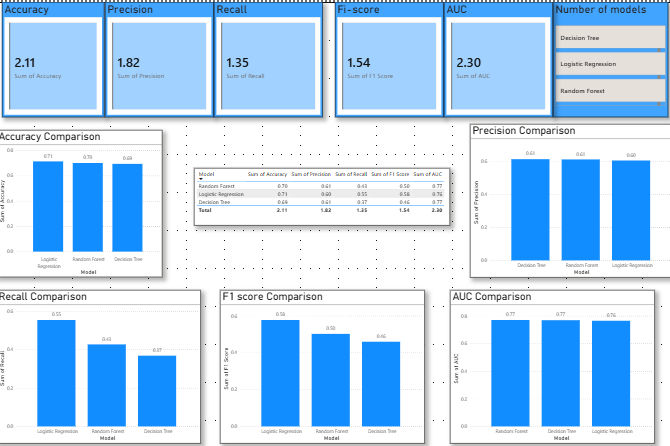

Layout of this report page (visuals, bound fields, positions):
{"tool":"powerbi","page":{"name":"Machine learning analytics","canvas":[1700,1500],"ordinal":3},"visuals":[{"type":"cardVisual","title":"Accuracy","fields":{"Data":["Sum(Model_Comparison.Accuracy)"]},"box":[16,0,256,288],"z":0},{"type":"cardVisual","title":"Number of models ","fields":{"Rows":["Model_Comparison.Model"]},"box":[1392,0,288,288],"z":1000},{"type":"cardVisual","title":"Precision","fields":{"Data":["Sum(Model_Comparison.Precision)"]},"box":[272,0,272,288],"z":2000},{"type":"cardVisual","title":"Recall","fields":{"Data":["Sum(Model_Comparison.Recall)"]},"box":[544,0,272,288],"z":3000},{"type":"cardVisual","title":"Fi-score","fields":{"Data":["Sum(Model_Comparison.F1 Score)"]},"box":[848,0,272,288],"z":4000},{"type":"cardVisual","title":"AUC","fields":{"Data":["Sum(Model_Comparison.AUC)"]},"box":[1120,0,272,288],"z":5000},{"type":"tableEx","fields":{"Values":["Model_Comparison.Model","Sum(Model_Comparison.Accuracy)","Sum(Model_Comparison.Precision)","Sum(Model_Comparison.Recall)","Sum(Model_Comparison.F1 Score)","Sum(Model_Comparison.AUC)"]},"box":[496,416,640,144],"z":6000},{"type":"clusteredColumnChart","title":"Accuracy Comparison","fields":{"Y":["Sum(Model_Comparison.Accuracy)"],"Category":["Model_Comparison.Model"]},"box":[0,320,416,368],"z":7000},{"type":"clusteredColumnChart","title":"Precision Comparison","fields":{"Category":["Model_Comparison.Model"],"Y":["Sum(Model_Comparison.Precision)"]},"box":[1184,304,512,384],"z":8000},{"type":"clusteredColumnChart","title":"Recall  Comparison","fields":{"Category":["Model_Comparison.Model"],"Y":["Sum(Model_Comparison.Recall)"]},"box":[0,720,512,384],"z":9000},{"type":"clusteredColumnChart","title":"F1 score  Comparison","fields":{"Category":["Model_Comparison.Model"],"Y":["Sum(Model_Comparison.F1 Score)"]},"box":[560,720,512,384],"z":10000},{"type":"clusteredColumnChart","title":"AUC  Comparison","fields":{"Category":["Model_Comparison.Model"],"Y":["Sum(Model_Comparison.AUC)"]},"box":[1136,720,512,384],"z":11000},{"type":"textbox","box":[-4,1200,1704,168],"z":12000}]}

Visuals, with their boxes on the page's 1700x1500 design canvas (x1, y1, x2, y2). These are canvas units, not pixel positions in the 670x446 screenshot, which may show the page scaled, cropped or inside an application window:
"Accuracy" cardVisual: 16:0:272:288
"Number of models " cardVisual: 1392:0:1680:288
"Precision" cardVisual: 272:0:544:288
"Recall" cardVisual: 544:0:816:288
"Fi-score" cardVisual: 848:0:1120:288
"AUC" cardVisual: 1120:0:1392:288
tableEx - Model_Comparison.Model x Sum(Model_Comparison.Accuracy): 496:416:1136:560
"Accuracy Comparison" clusteredColumnChart: 0:320:416:688
"Precision Comparison" clusteredColumnChart: 1184:304:1696:688
"Recall  Comparison" clusteredColumnChart: 0:720:512:1104
"F1 score  Comparison" clusteredColumnChart: 560:720:1072:1104
"AUC  Comparison" clusteredColumnChart: 1136:720:1648:1104
textbox: -4:1200:1700:1368
